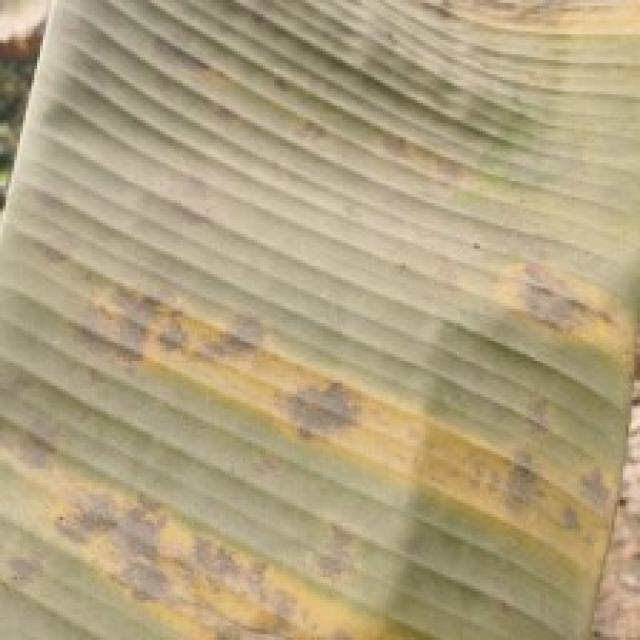Downey_mildrew: (1, 234, 639, 640), (120, 22, 370, 186), (403, 0, 640, 146), (94, 174, 243, 283)
